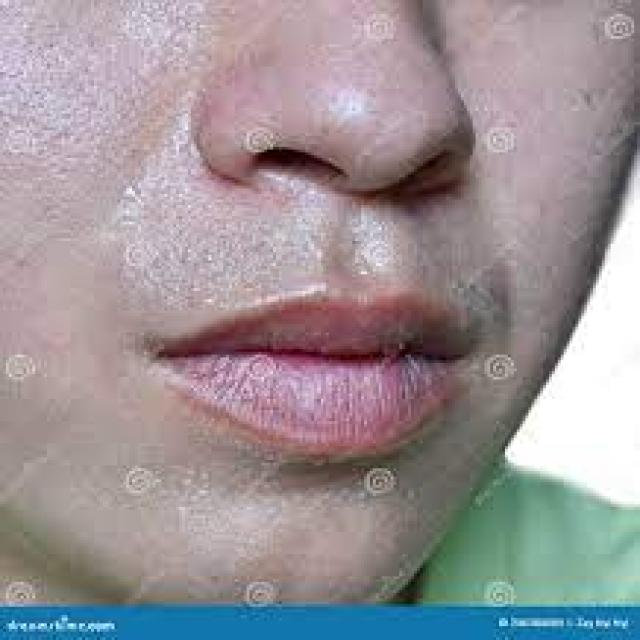Oily-Skin: (38, 19, 459, 527)
